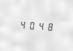eight: (45, 20, 53, 32)
four: (18, 18, 26, 30), (36, 20, 44, 31)
zero: (27, 19, 35, 30)
